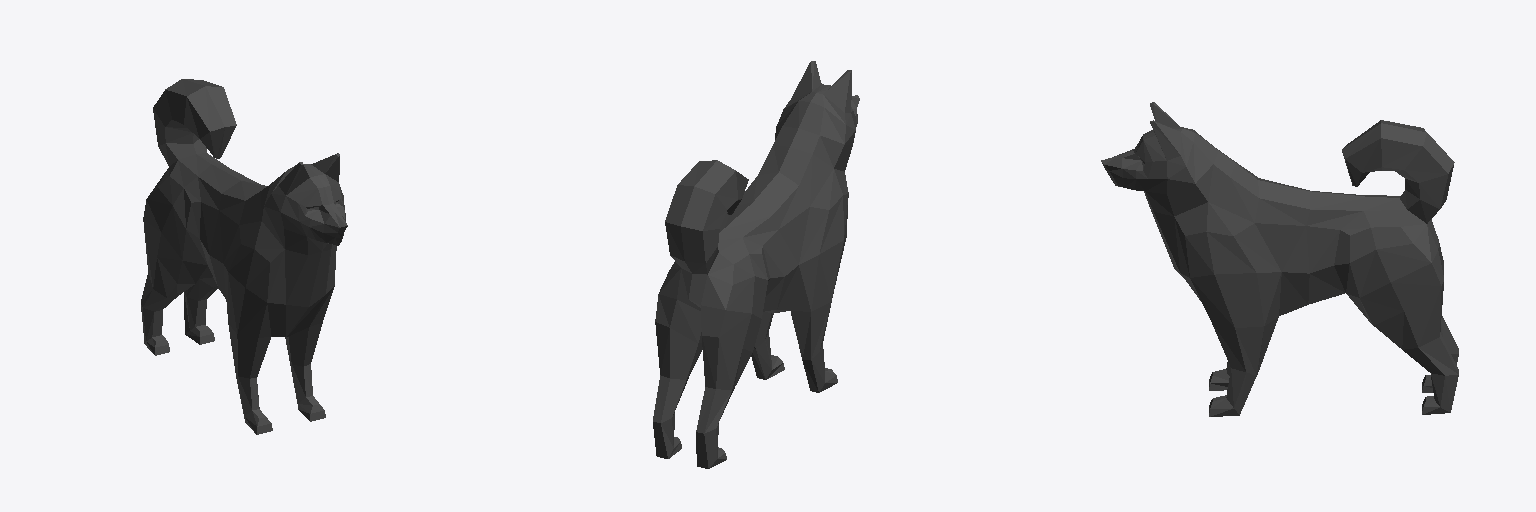
File: wolf.obj
3 views of the same model, side by side, from view 1: azimuth 30°, elevation 25°; view 2: azimuth 150°, elevation 25°; view 3: azimuth 270°, elevation 25° (orthographic).
Parts seen in each view (by area): view 1: ORIGAMI_Chien; view 2: ORIGAMI_Chien; view 3: ORIGAMI_Chien.
Part boxes in pixels (x1,y1,x2,y2): ORIGAMI_Chien: (141,79,347,434); ORIGAMI_Chien: (653,61,859,468); ORIGAMI_Chien: (1101,102,1458,416).
Size of the model in its own units: 1.47 by 4.71 by 5.29.